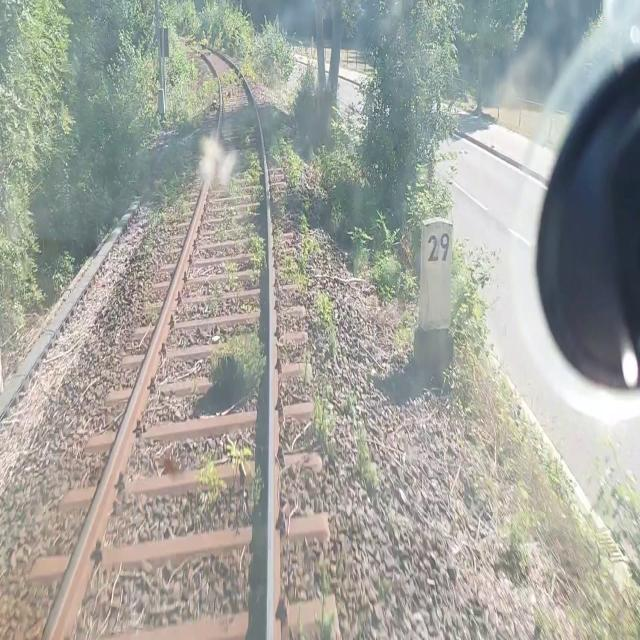Plant: (210, 332, 265, 393), (227, 126, 263, 216), (295, 558, 333, 639), (219, 216, 267, 279), (270, 121, 302, 190), (189, 76, 219, 124), (315, 290, 337, 355), (299, 209, 319, 268), (197, 459, 223, 504), (355, 440, 378, 490), (313, 395, 334, 449), (279, 254, 305, 291), (179, 47, 201, 88), (226, 442, 245, 472), (274, 193, 283, 251), (301, 188, 318, 216), (227, 260, 242, 290), (208, 280, 221, 313), (219, 68, 240, 88), (239, 60, 257, 83), (251, 476, 260, 508), (242, 296, 260, 312), (176, 196, 190, 216), (147, 300, 158, 325), (198, 34, 211, 55), (185, 27, 198, 47), (345, 394, 354, 411), (172, 168, 180, 185), (213, 39, 223, 51), (158, 212, 166, 223)
